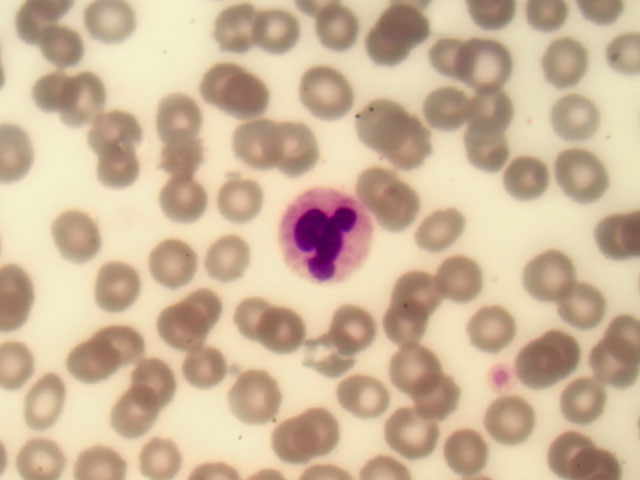Platelets: (486, 365, 527, 396)
RBC: (352, 98, 412, 154), (463, 35, 520, 88), (540, 34, 597, 87), (543, 92, 600, 145), (556, 147, 613, 200), (583, 212, 640, 265), (510, 248, 567, 301), (559, 284, 616, 337), (515, 332, 572, 385), (454, 305, 511, 358), (437, 254, 494, 307), (399, 261, 456, 314), (372, 297, 429, 350), (385, 339, 442, 392), (400, 365, 457, 418), (474, 394, 531, 447), (551, 379, 608, 432), (538, 422, 595, 475), (442, 426, 499, 479), (386, 406, 443, 459), (338, 369, 395, 422), (315, 295, 372, 348), (265, 304, 322, 357), (229, 291, 286, 344), (189, 224, 246, 277), (154, 235, 211, 288), (90, 264, 147, 317), (60, 215, 117, 268), (98, 322, 155, 375), (58, 342, 115, 395), (14, 389, 71, 442), (17, 427, 74, 480), (76, 427, 133, 480), (104, 394, 161, 447), (132, 354, 189, 407), (186, 346, 243, 399), (158, 297, 215, 350), (180, 285, 237, 338), (230, 376, 287, 429), (257, 414, 314, 467), (299, 404, 356, 457), (36, 25, 88, 74), (38, 70, 90, 119), (65, 76, 117, 125), (86, 101, 138, 150), (92, 151, 144, 200), (149, 87, 201, 136), (150, 128, 202, 177), (155, 171, 207, 220), (220, 175, 272, 224), (232, 116, 284, 165), (271, 131, 323, 180), (217, 77, 269, 126), (209, 57, 261, 106), (303, 60, 355, 109), (263, 8, 315, 57), (218, 9, 270, 58), (312, 8, 364, 57), (381, 123, 433, 172), (356, 163, 408, 212), (416, 206, 468, 255), (506, 152, 558, 201), (453, 123, 505, 172), (458, 82, 510, 131), (434, 87, 486, 136), (429, 33, 481, 82), (78, 1, 130, 49)
WBC: (272, 189, 380, 283)
